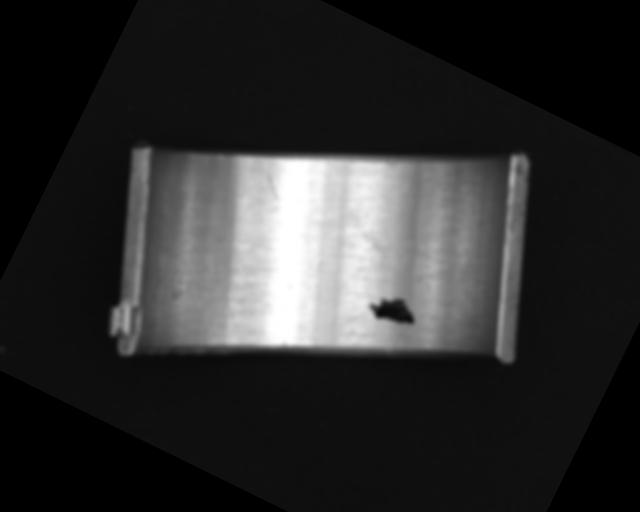blot: (347, 229, 420, 288), (363, 285, 422, 337)
bruise: (387, 156, 399, 169), (278, 338, 290, 349)
nick: (249, 154, 294, 201)
